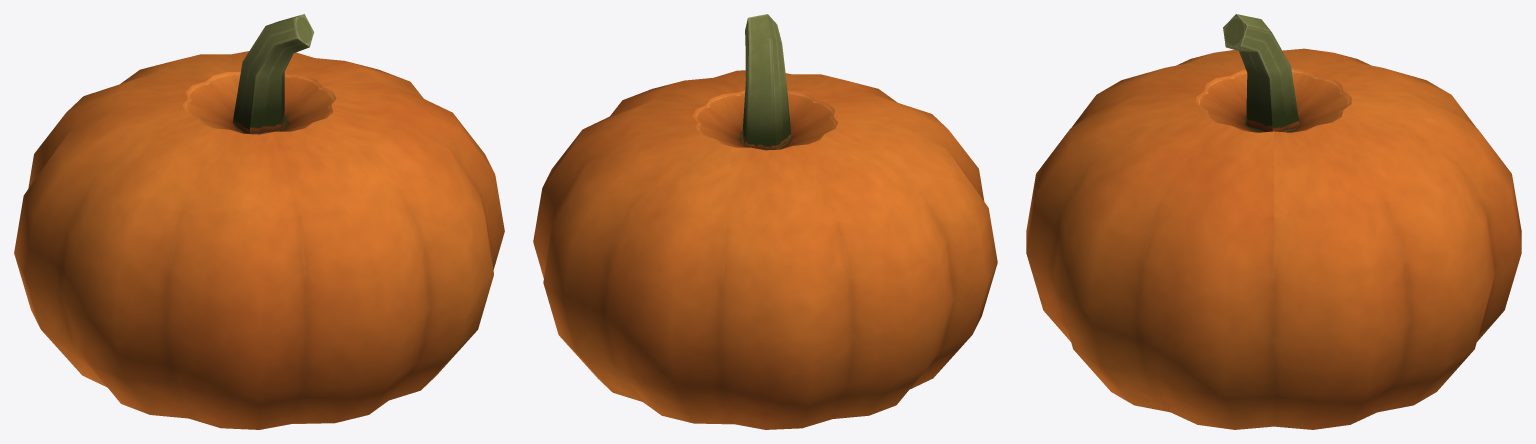
The model's file is Pumpkin_01.fbx.
3 renders of one model, left to right at view 1: azimuth 30°, elevation 25°; view 2: azimuth 150°, elevation 25°; view 3: azimuth 270°, elevation 25°, orthographic. The views are drawn at different scales.
Visible parts, largest first — view 1: Pumpkin_01; view 2: Pumpkin_01; view 3: Pumpkin_01.
Part boxes in pixels (x1=…): Pumpkin_01: x1=14, y1=14, x2=504, y2=429; Pumpkin_01: x1=533, y1=14, x2=997, y2=429; Pumpkin_01: x1=1026, y1=14, x2=1521, y2=429.
Bounding box in the file's own units: 0.3968 × 0.3423 × 0.4034.
Materials: 1 (1 with a texture image).
